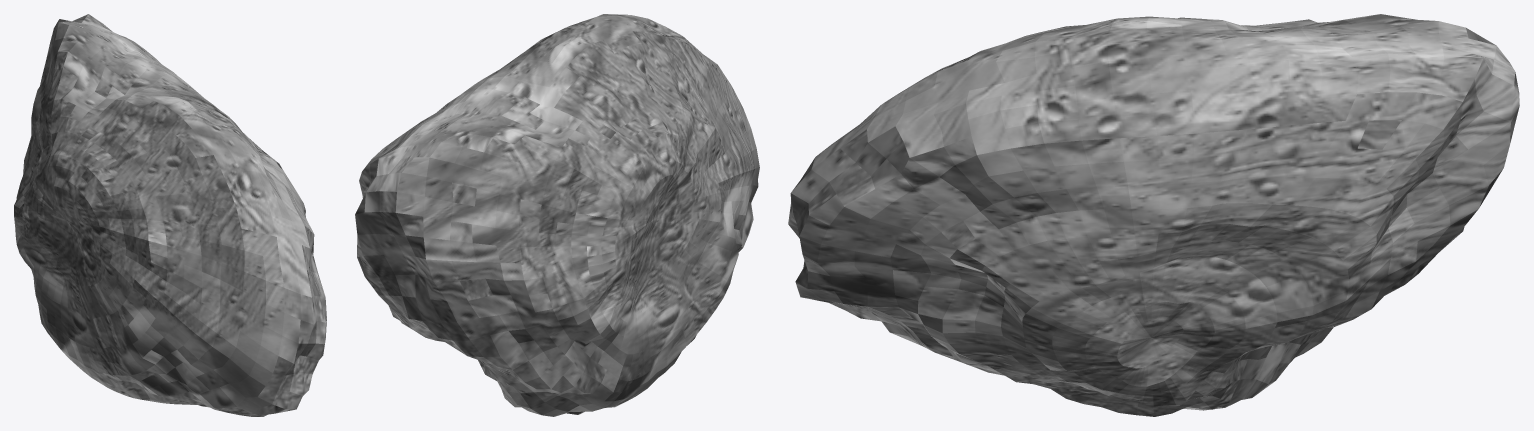
The model's file is asteroids.obj.
3 renders of one model, left to right at view 1: azimuth 30°, elevation 25°; view 2: azimuth 150°, elevation 25°; view 3: azimuth 270°, elevation 25°, orthographic. The views are drawn at different scales.
Visible parts, largest first — view 1: Null3_Null2_Null1_Null_Landscape_37; view 2: Null3_Null2_Null1_Null_Landscape_37; view 3: Null3_Null2_Null1_Null_Landscape_37.
Part boxes in pixels (box(x1,y1,x2,y2)): Null3_Null2_Null1_Null_Landscape_37: box(14, 14, 326, 416); Null3_Null2_Null1_Null_Landscape_37: box(355, 14, 759, 416); Null3_Null2_Null1_Null_Landscape_37: box(788, 14, 1519, 416).
Size of the model in its own units: 3.6 by 5 by 8.63.
1 material, 1 textured.
